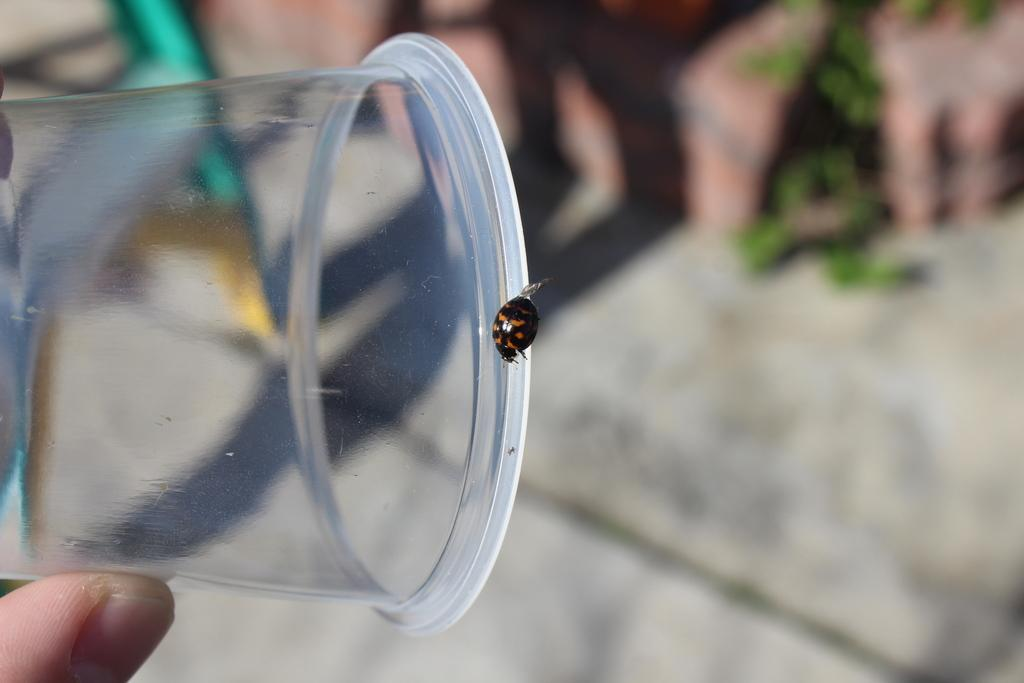ladybug: (491, 275, 553, 365)
